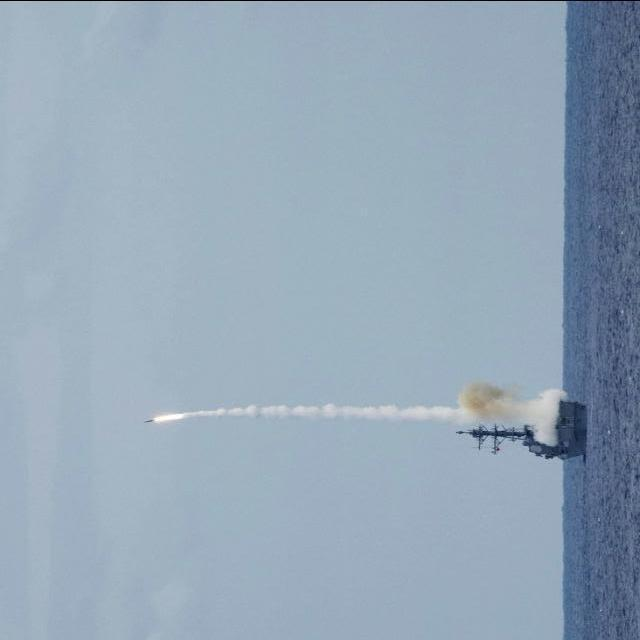missile: (143, 418, 155, 424)
